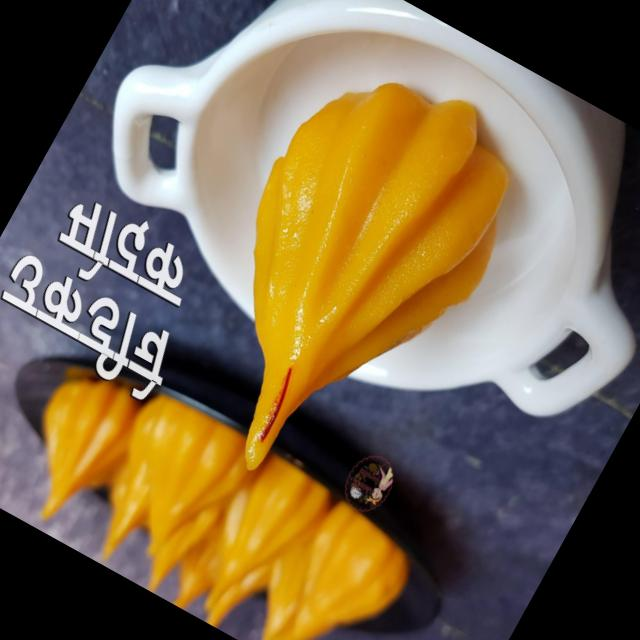modak: (190, 89, 518, 515), (79, 397, 249, 583), (229, 487, 424, 640), (172, 453, 328, 632), (5, 368, 142, 526)
